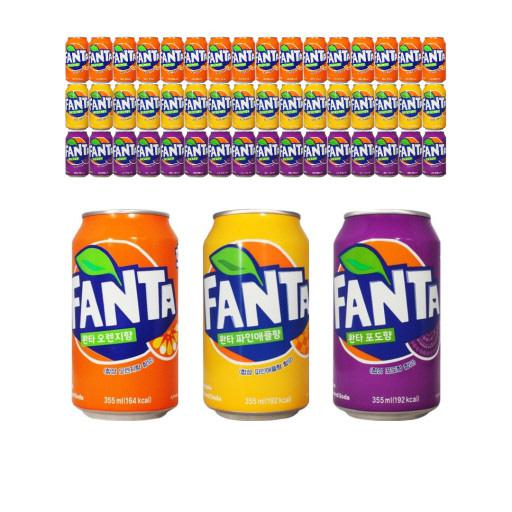fanta_orange: (66, 206, 181, 423), (63, 31, 91, 83), (422, 36, 449, 83), (301, 33, 324, 74)
